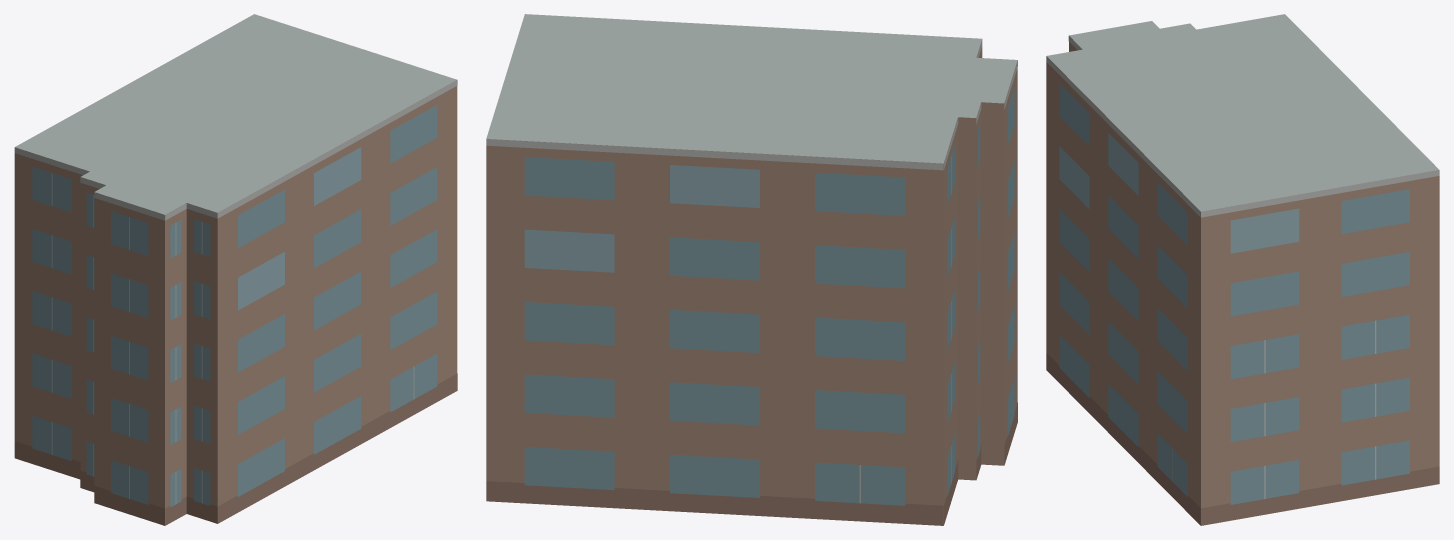
The model's file is survey-upis-32749820.glb.
The picture shows the model from 3 angles, left to right: view 1: azimuth 30°, elevation 25°; view 2: azimuth 150°, elevation 25°; view 3: azimuth 270°, elevation 25°; orthographic projection. The views are drawn at different scales.
Visible parts, largest first — view 1: survey-upis-32749820.tmp; view 2: survey-upis-32749820.tmp; view 3: survey-upis-32749820.tmp.
Boxes of the visible parts, x1,y1,x2,y2 form: survey-upis-32749820.tmp: (14,14,457,525); survey-upis-32749820.tmp: (486,14,1017,525); survey-upis-32749820.tmp: (1046,14,1439,525).
Bounding box in the file's own units: 17.56 × 13 × 14.75.
